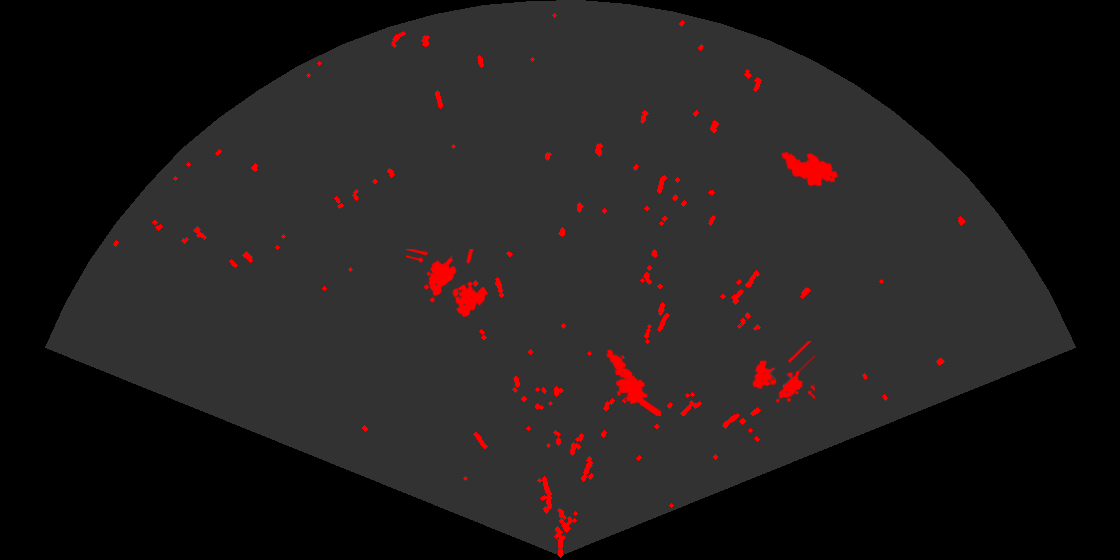AUV: (779, 150, 840, 188)
cage: (406, 249, 490, 319), (751, 341, 815, 405)
frogman: (605, 348, 661, 416)
